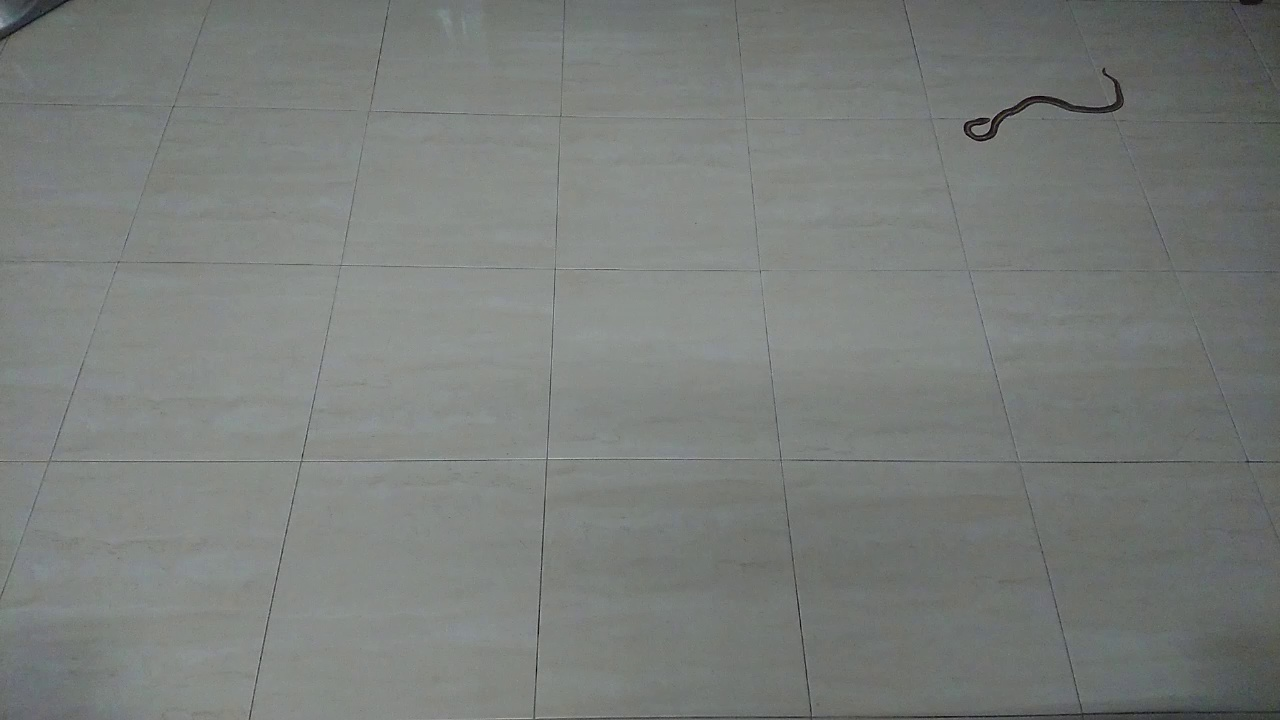snake: (950, 57, 1131, 154)
